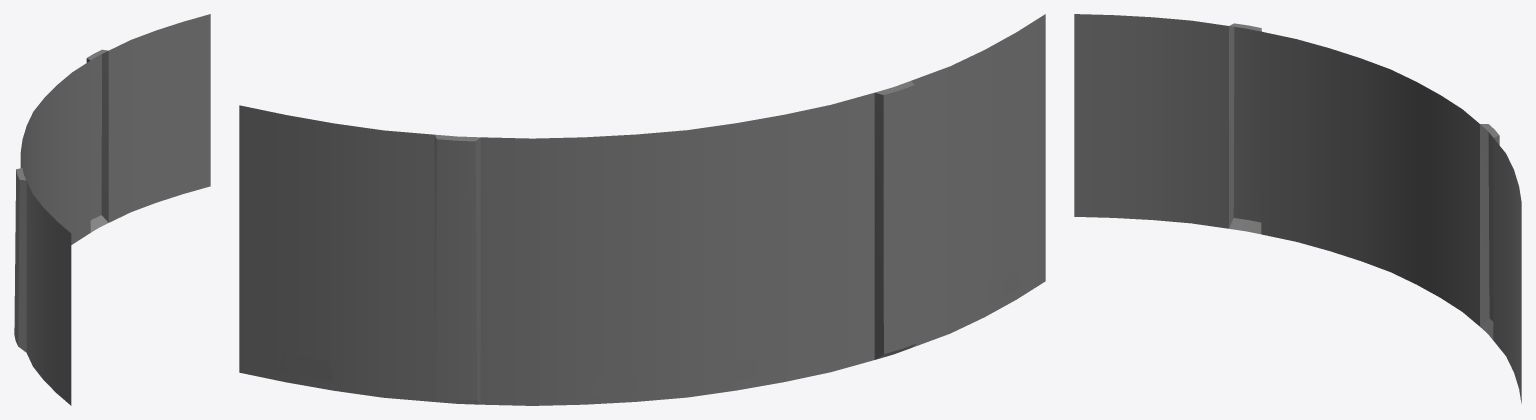
File: q-scifi-mod-topastra-curve-round-outer.glb
3 renders of one model, left to right at view 1: azimuth 30°, elevation 25°; view 2: azimuth 150°, elevation 25°; view 3: azimuth 270°, elevation 25°, orthographic. The views are drawn at different scales.
Parts seen in each view (by area): view 1: TopAstra_Curve_Round_Outer; view 2: TopAstra_Curve_Round_Outer; view 3: TopAstra_Curve_Round_Outer.
Part boxes in pixels (x1,y1,x2,y2): TopAstra_Curve_Round_Outer: (14, 14, 210, 405); TopAstra_Curve_Round_Outer: (239, 14, 1045, 405); TopAstra_Curve_Round_Outer: (1074, 14, 1521, 403).
Bounding box in the file's own units: 4 × 2 × 4.
3 materials, 3 textured.
